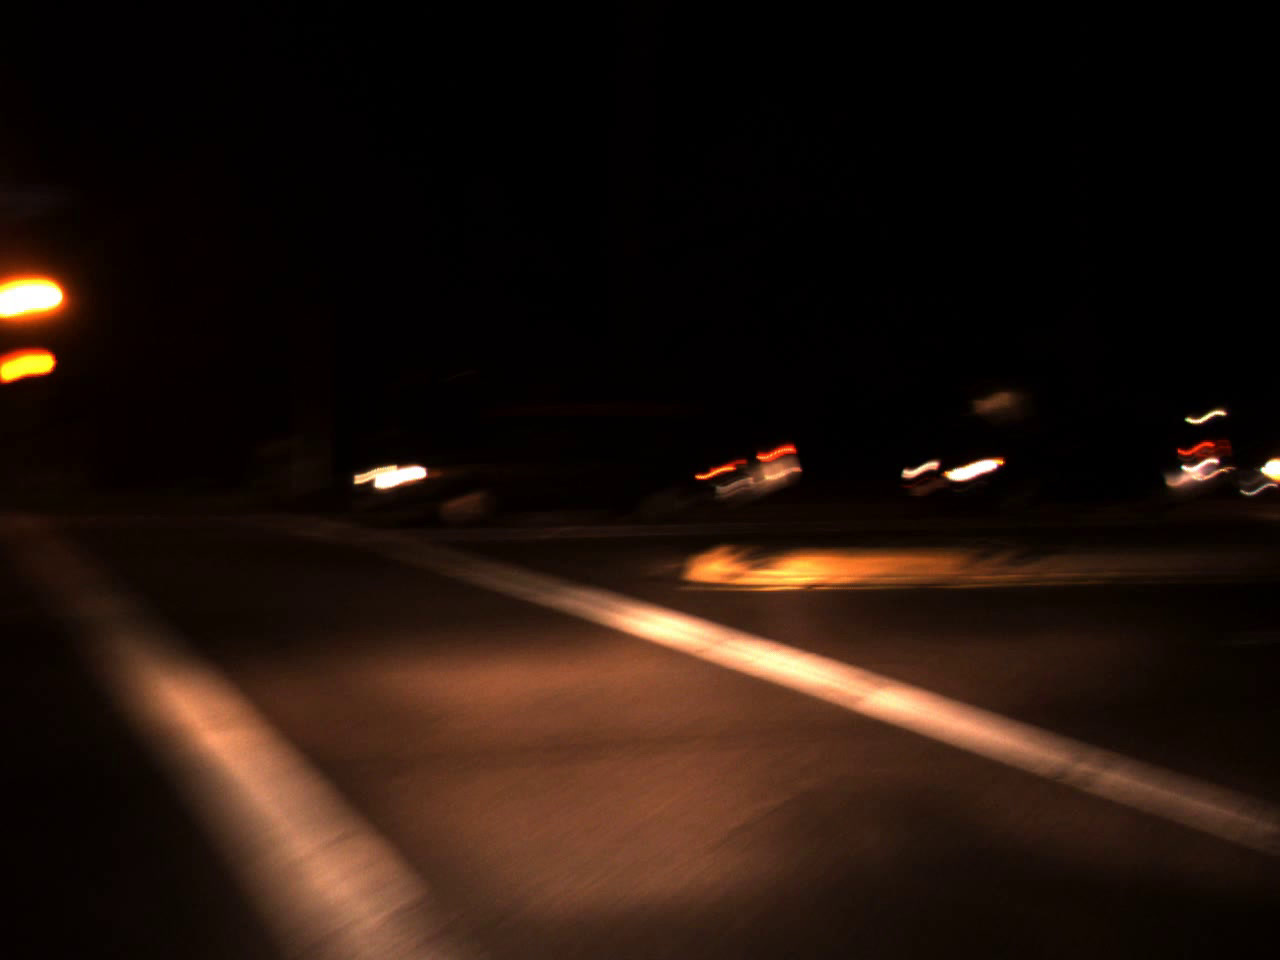warning: (5, 262, 65, 327)
